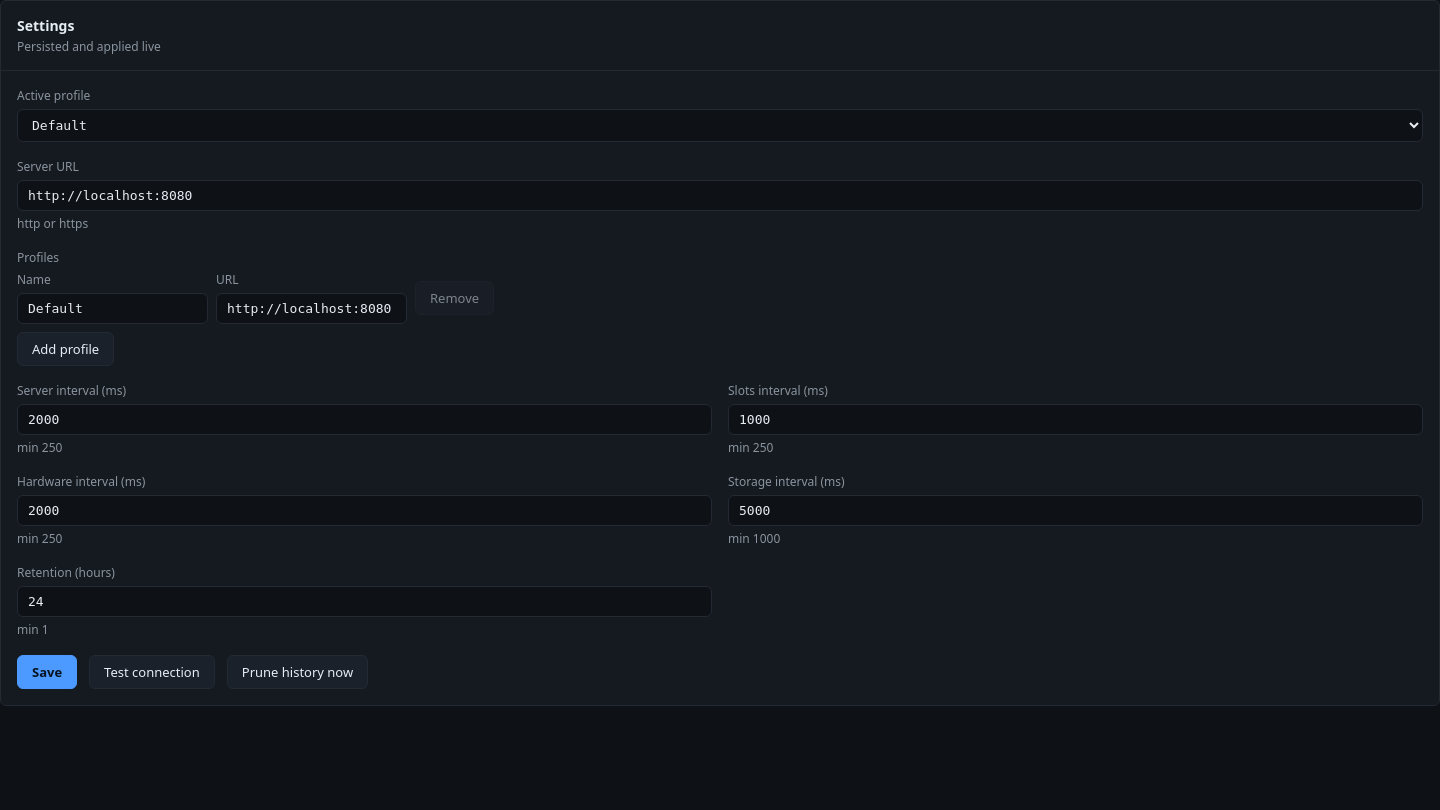
Test: Settings › should block saving and show a field error for an invalid URL
Replace the text in the field labelled "Server URL" with "not a url" at x=720, y=196, box 17,180 -> 1423,211
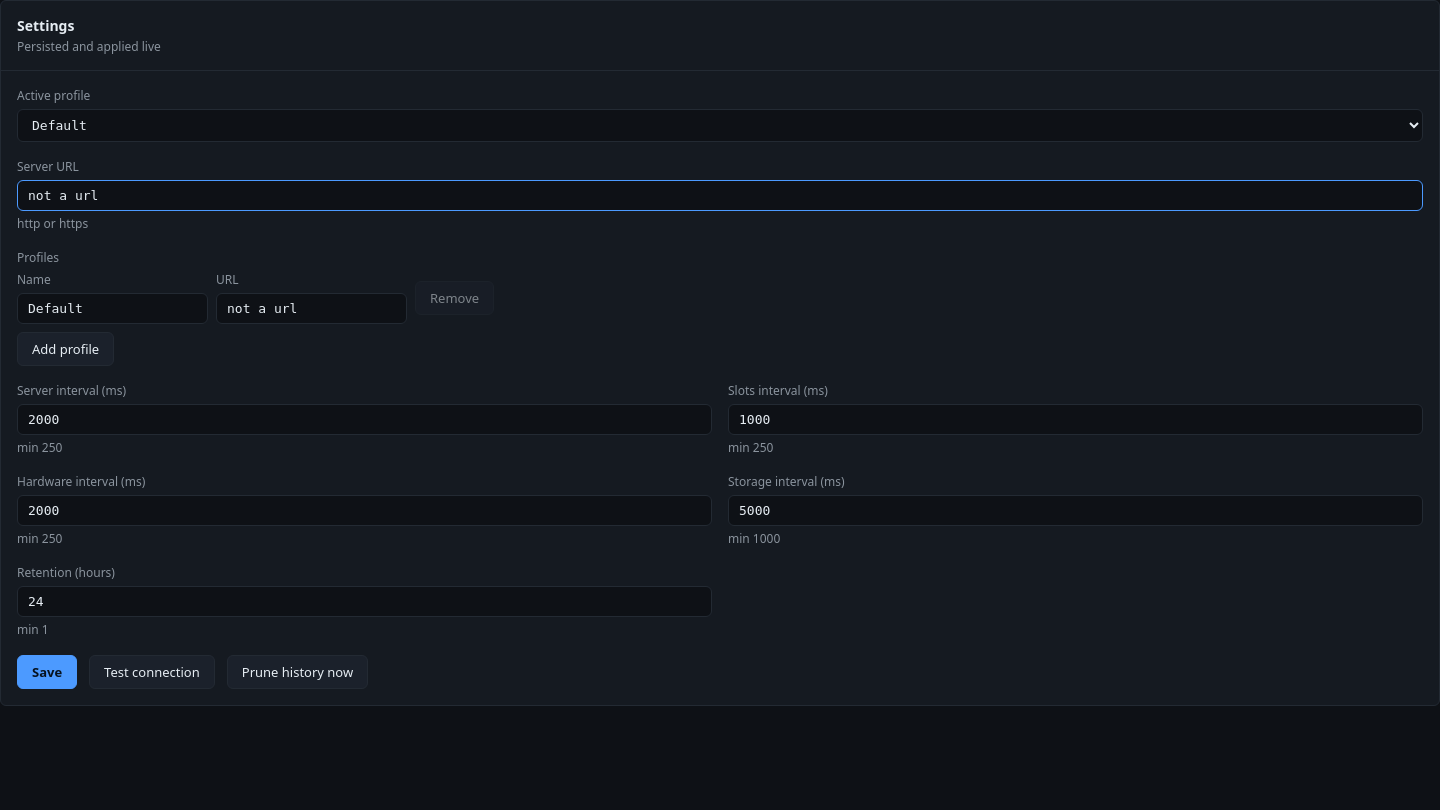
Click the button "Save" at x=47, y=672, box 17,655 -> 77,689
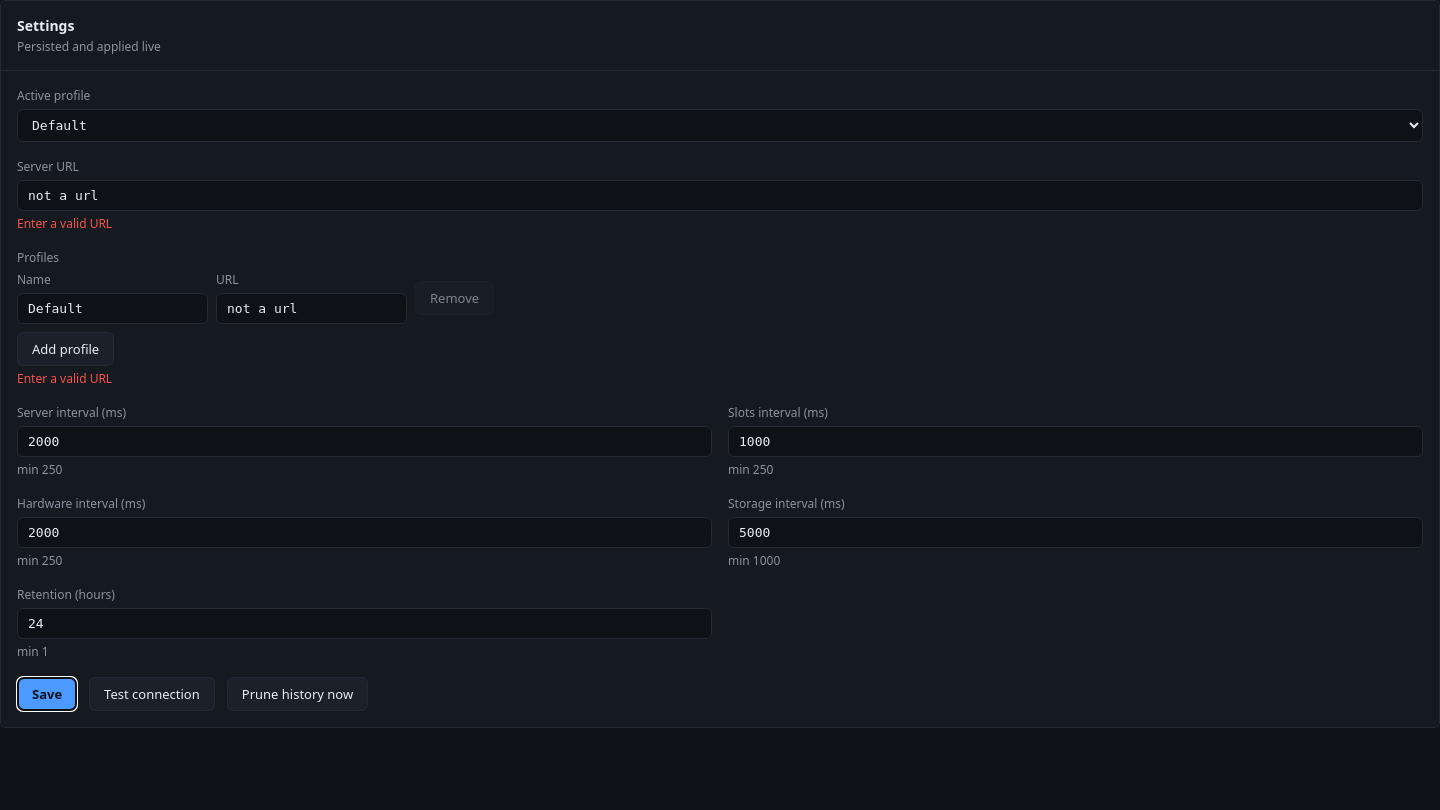
Check: the text "Enter a valid URL" below "Server URL" is shown, box 17,215 -> 112,232
